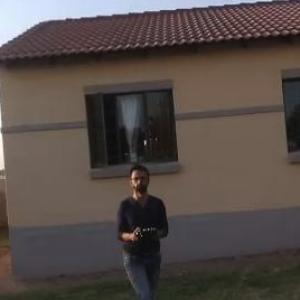follow: (112, 159, 171, 299)
